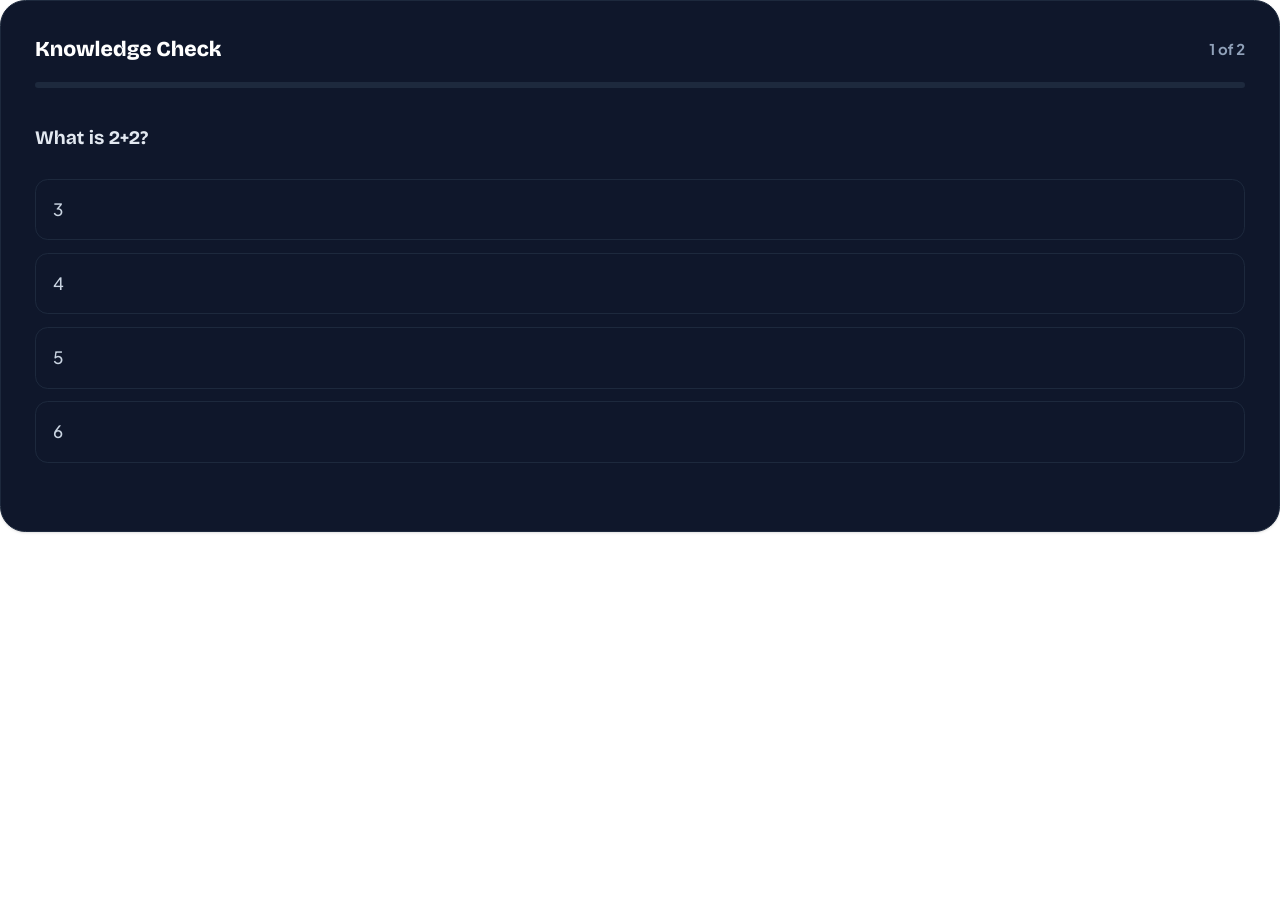
Test case: Quiz › advances to next question
Click the button "4": click(58, 283) [35,253,1245,314]
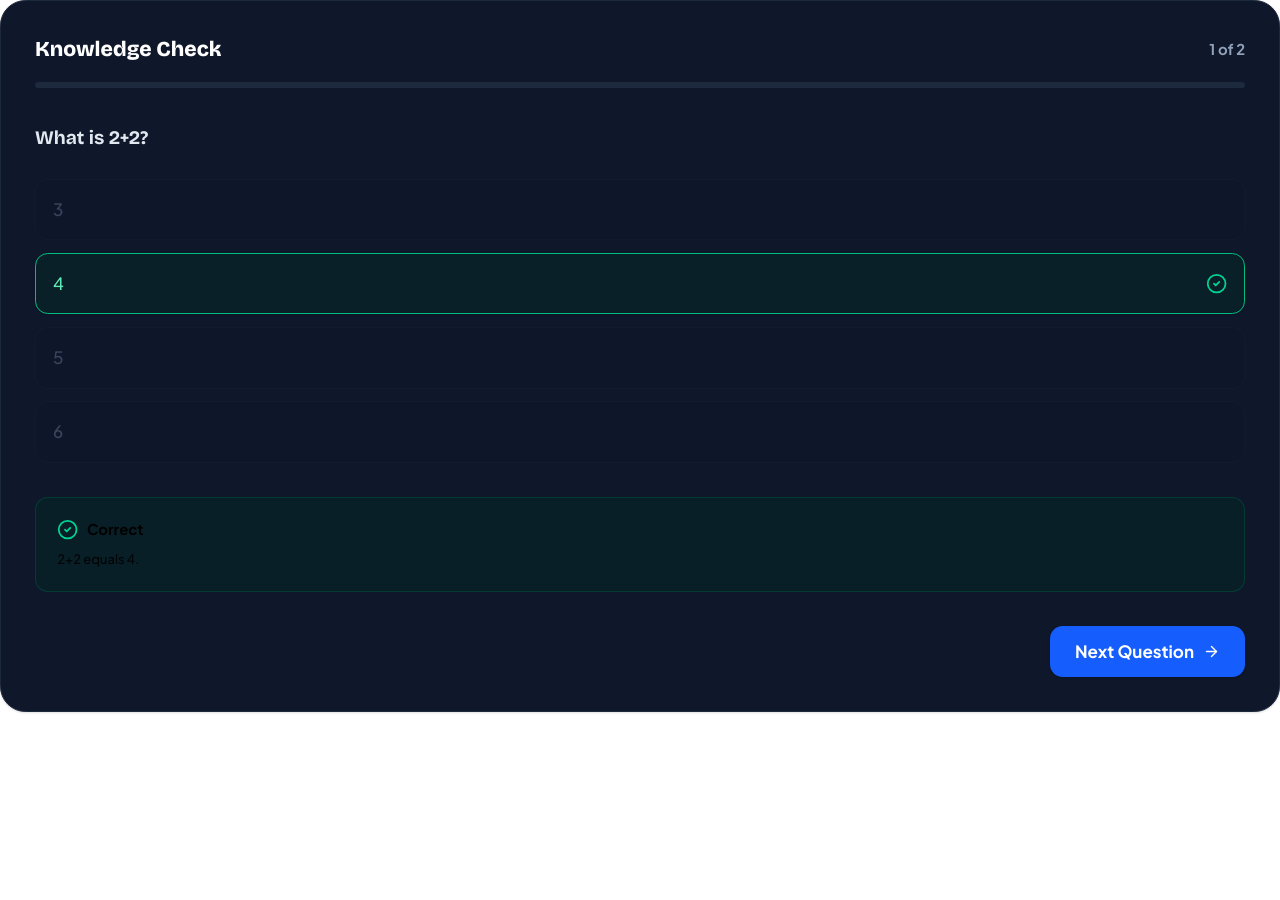
Click the button "Next Question": click(1147, 652) [1050,626,1245,677]
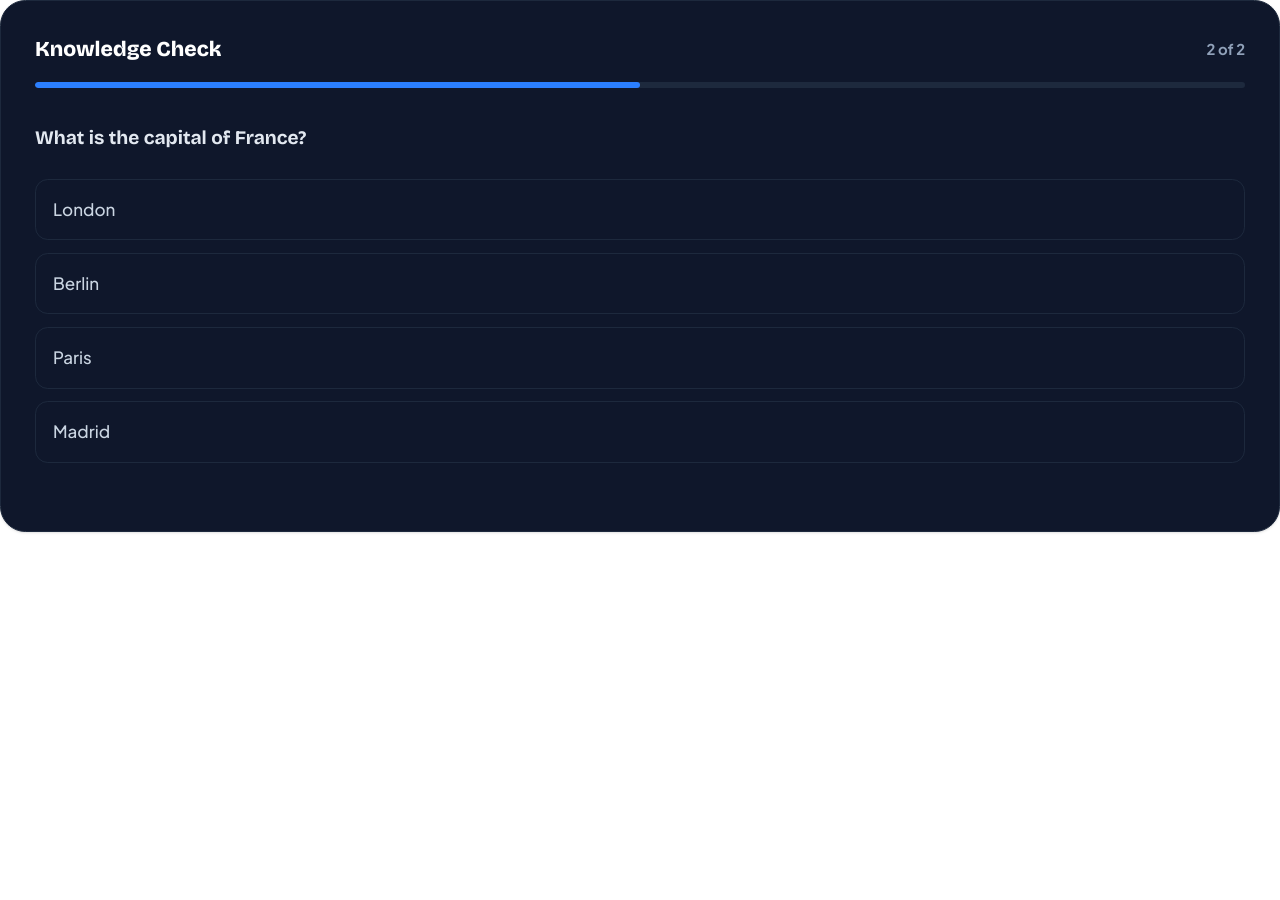
Now the heading "What is the capital of France?" is shown, box [35,126,306,149]
